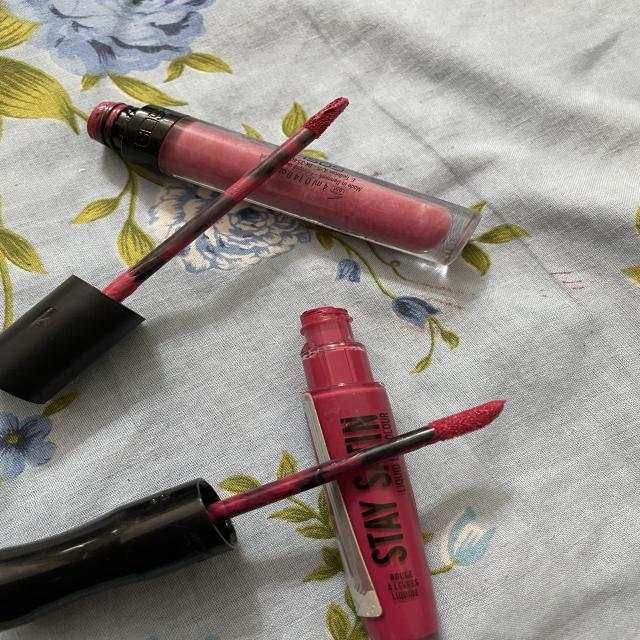lip gloss: (0, 294, 538, 640), (43, 82, 501, 278), (288, 297, 462, 640), (406, 362, 530, 512), (263, 83, 377, 177)
